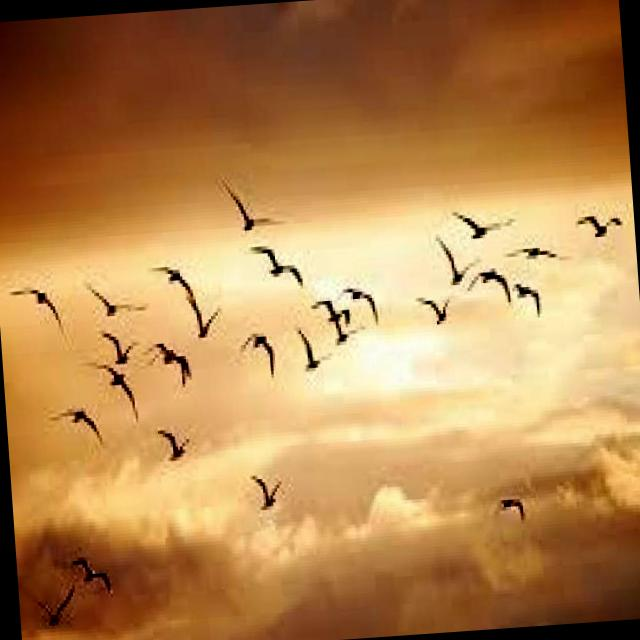bird: (69, 249, 149, 330), (215, 177, 287, 240), (469, 471, 542, 532), (5, 270, 75, 333), (50, 392, 112, 462), (420, 227, 482, 290), (66, 528, 128, 590), (437, 198, 518, 245), (28, 576, 85, 640), (336, 278, 389, 340), (249, 238, 306, 294), (94, 363, 145, 422), (149, 426, 202, 481), (242, 461, 286, 527), (94, 324, 146, 376), (150, 252, 198, 308), (296, 322, 340, 381), (568, 205, 630, 244), (512, 233, 568, 276), (304, 285, 354, 333), (144, 338, 198, 382), (238, 316, 282, 370), (471, 263, 512, 315), (183, 294, 224, 345), (413, 290, 451, 334), (516, 281, 556, 319), (334, 317, 368, 357)
